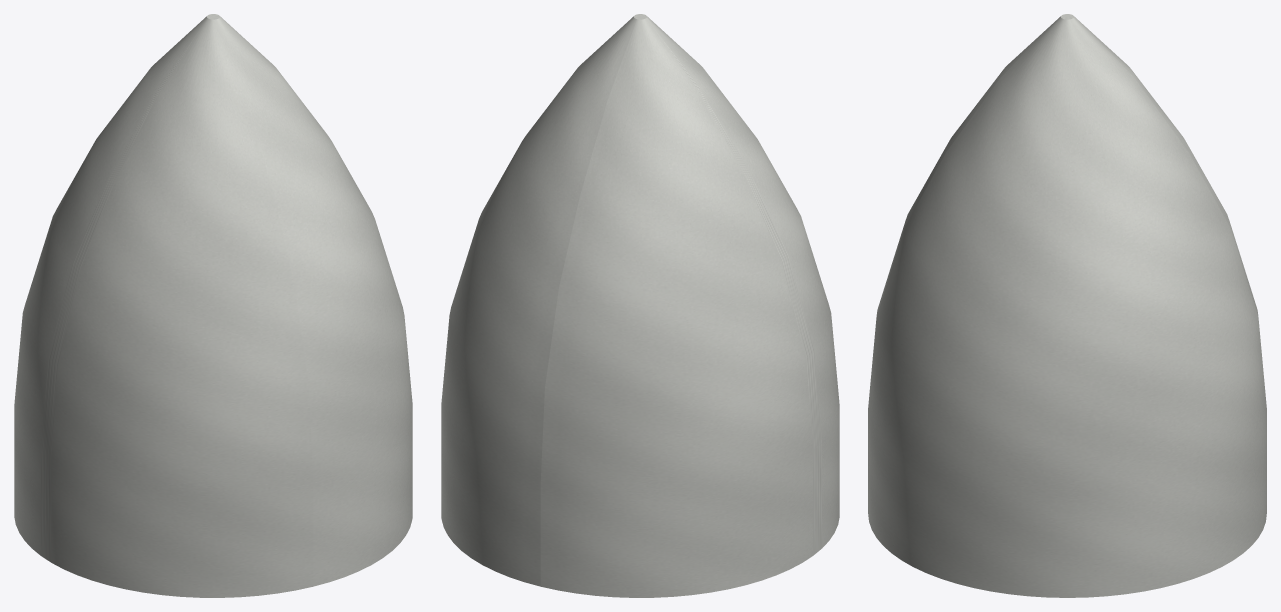
File: fairing_closed.glb
The picture shows the model from 3 angles, left to right: view 1: azimuth 30°, elevation 25°; view 2: azimuth 150°, elevation 25°; view 3: azimuth 270°, elevation 25°; orthographic projection.
Visible parts, largest first — view 1: Fairing_Shell_Left, Fairing_Shell_Right; view 2: Fairing_Shell_Left, Fairing_Shell_Right; view 3: Fairing_Shell_Right, Fairing_Shell_Left.
Part boxes in pixels (x1,y1,x2,y2): Fairing_Shell_Left: [14, 14, 313, 597]; Fairing_Shell_Right: [210, 14, 412, 586]; Fairing_Shell_Left: [540, 14, 839, 597]; Fairing_Shell_Right: [441, 14, 643, 586]; Fairing_Shell_Right: [868, 16, 1266, 597]; Fairing_Shell_Left: [876, 14, 1258, 316].
Bounding box in the file's own units: 2.4 × 3.3 × 2.4.
Materials: 2 (1 with a texture image).
